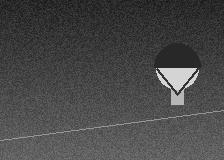helmet: (154, 43, 200, 94)
